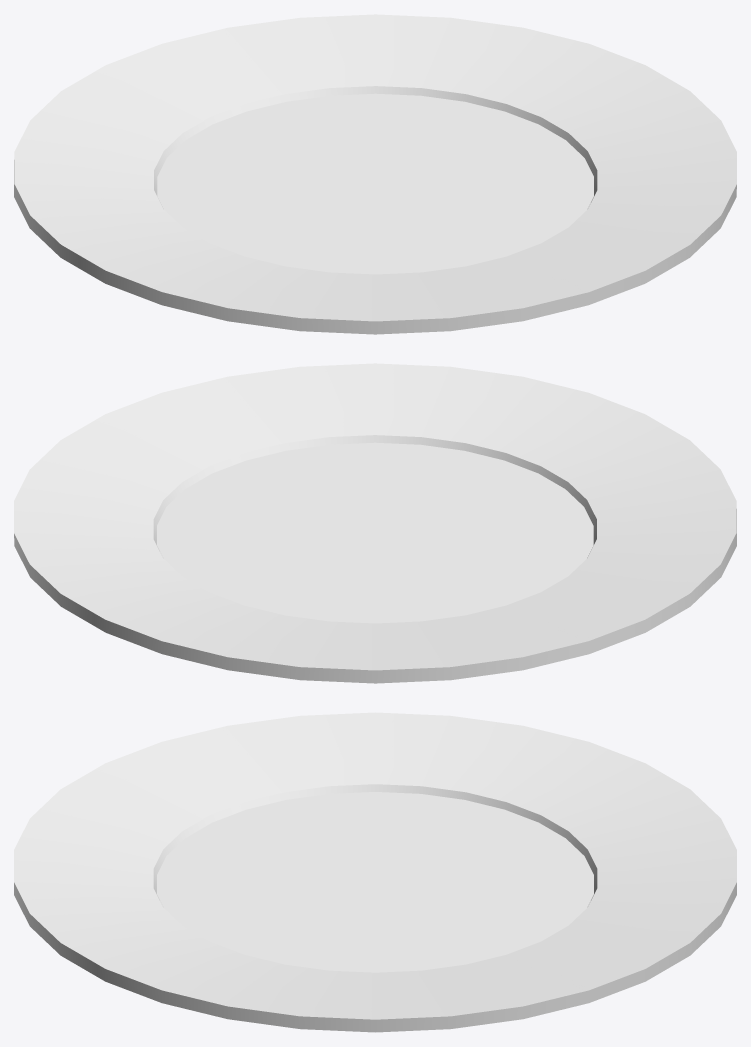
File: PlateClean.FBX
3 renders of one model, top to bottom at view 1: azimuth 30°, elevation 25°; view 2: azimuth 150°, elevation 25°; view 3: azimuth 270°, elevation 25°, orthographic.
Visible parts, largest first — view 1: Plate_clean; view 2: Plate_clean; view 3: Plate_clean.
Part boxes in pixels (bbox=[...]): Plate_clean: bbox=[14, 14, 736, 334]; Plate_clean: bbox=[14, 363, 736, 683]; Plate_clean: bbox=[14, 712, 736, 1032].
Size of the model in its own units: 26.73 by 1.77 by 26.57.
